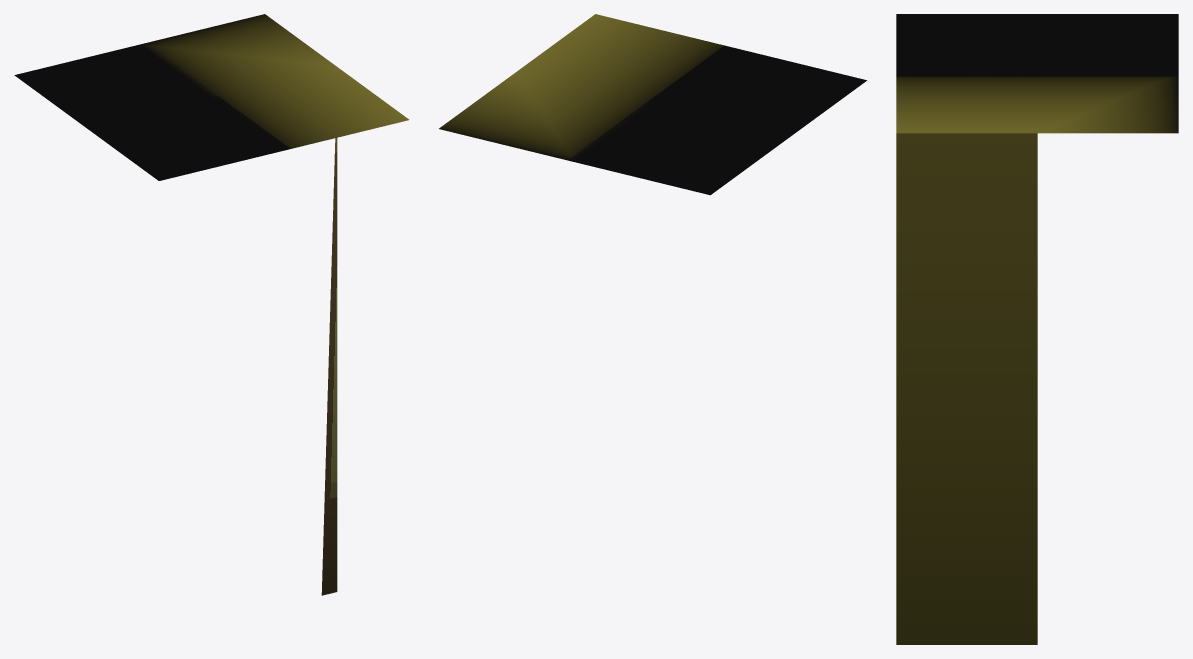
3 views of the same model, side by side, from view 1: azimuth 30°, elevation 25°; view 2: azimuth 150°, elevation 25°; view 3: azimuth 270°, elevation 25° (orthographic). The views are drawn at different scales.
Size of the model in its own units: 1 by 2 by 1.
1 material, 1 textured.
